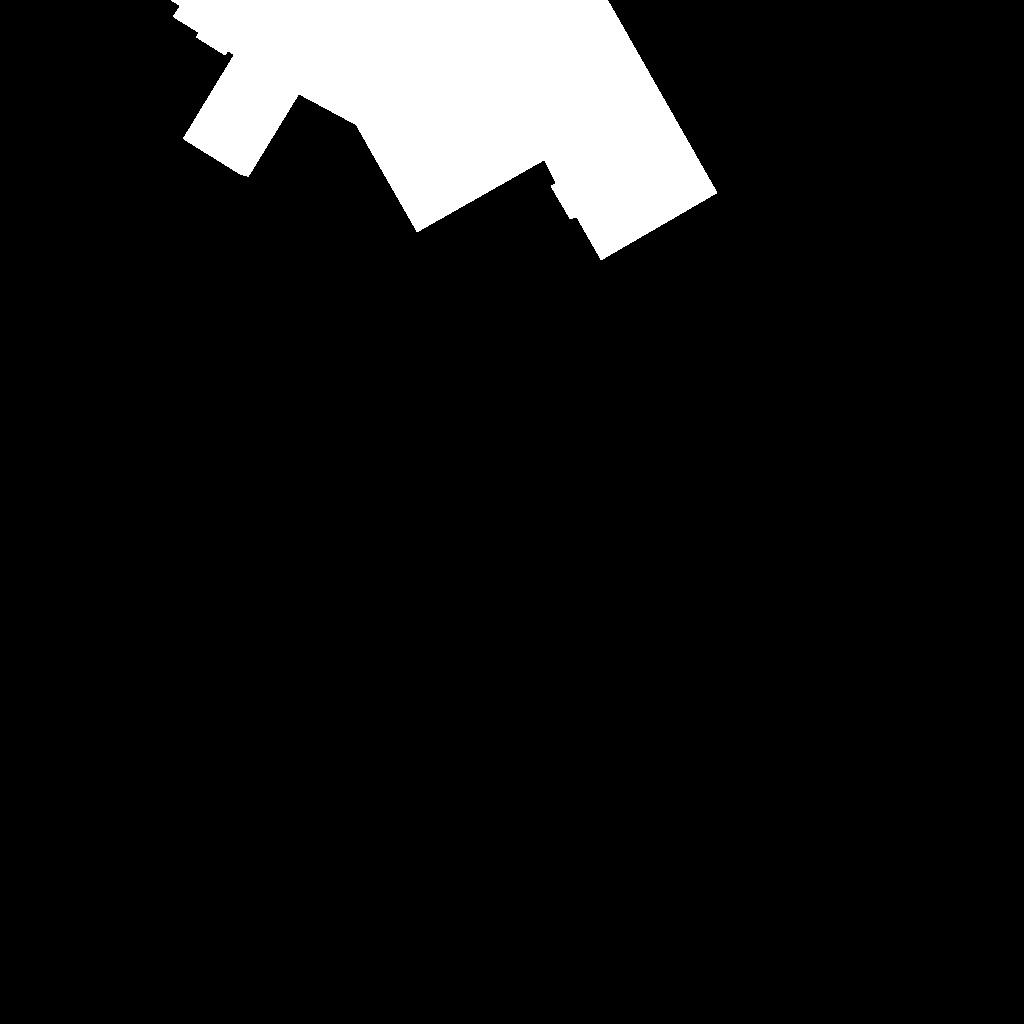building: (170, 0, 718, 261)
